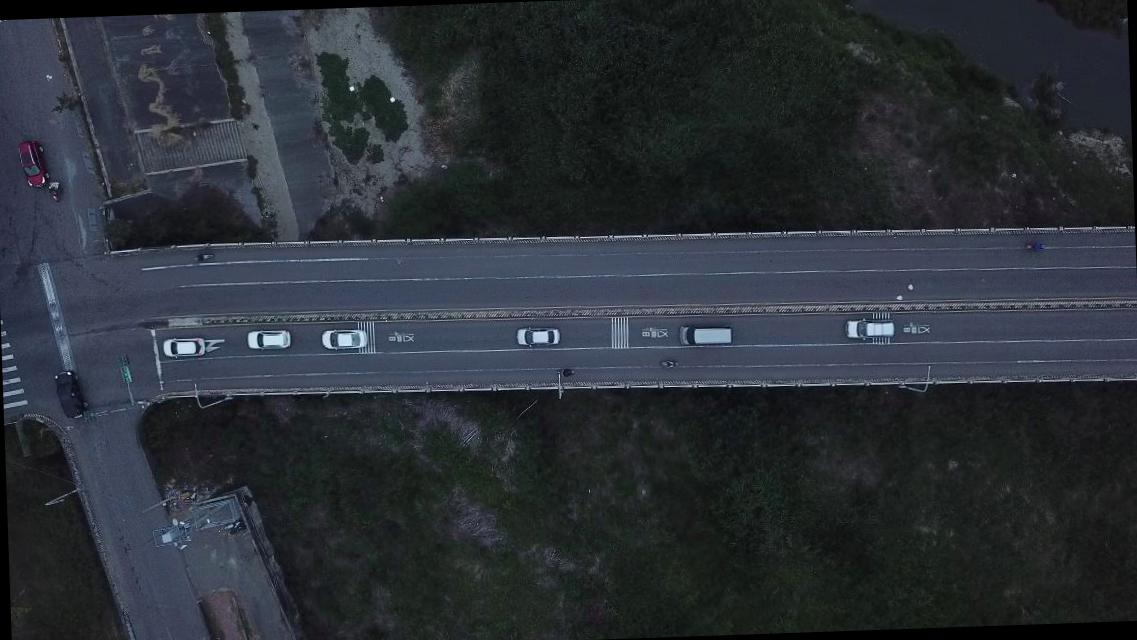vehicle: (18, 140, 52, 191), (54, 369, 86, 419), (678, 324, 733, 346), (320, 326, 368, 350), (245, 328, 290, 352), (515, 324, 559, 348), (161, 336, 206, 359), (844, 320, 894, 340)
